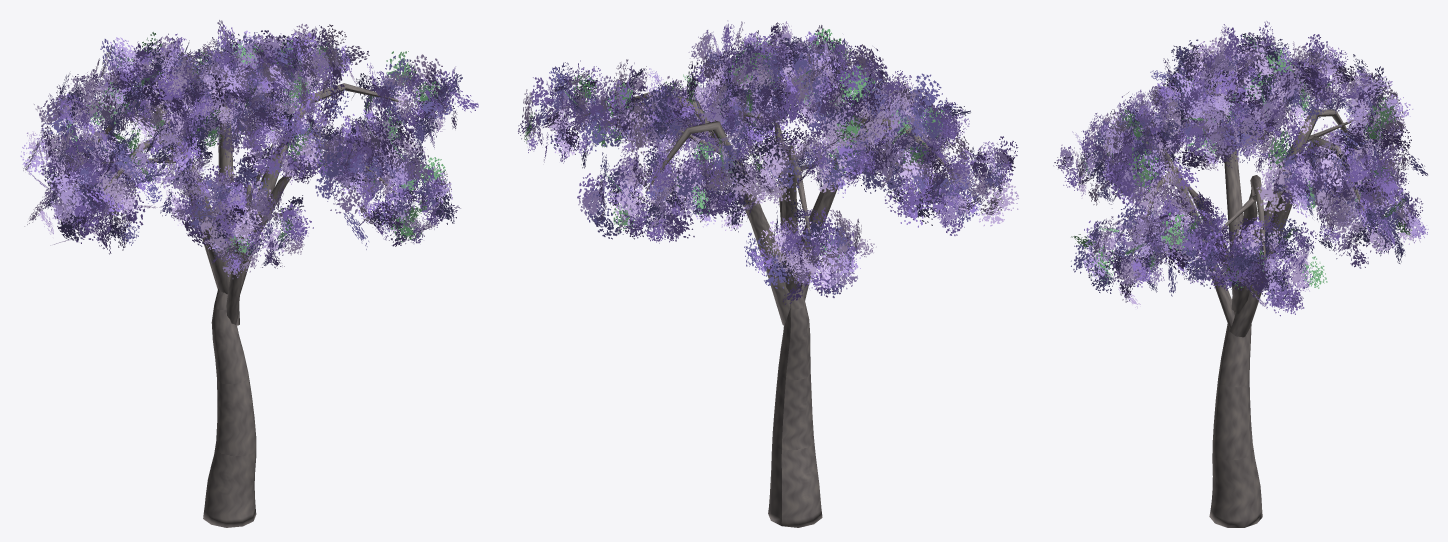
Rendered from Tree_Jacaranda_01_Violet.glb.
The picture shows the model from 3 angles, left to right: view 1: azimuth 30°, elevation 25°; view 2: azimuth 150°, elevation 25°; view 3: azimuth 270°, elevation 25°; orthographic projection. The views are drawn at different scales.
Visible parts, largest first — view 1: Tree_Jacaranda_01_Violet; view 2: Tree_Jacaranda_01_Violet; view 3: Tree_Jacaranda_01_Violet.
Boxes of the visible parts, box(x1,y1,x2,y2) form: Tree_Jacaranda_01_Violet: box(20, 20, 478, 527); Tree_Jacaranda_01_Violet: box(518, 20, 1018, 527); Tree_Jacaranda_01_Violet: box(1053, 21, 1428, 527).
Size of the model in its own units: 9.68 by 9.45 by 7.03.
Materials: 2 (2 with a texture image).
